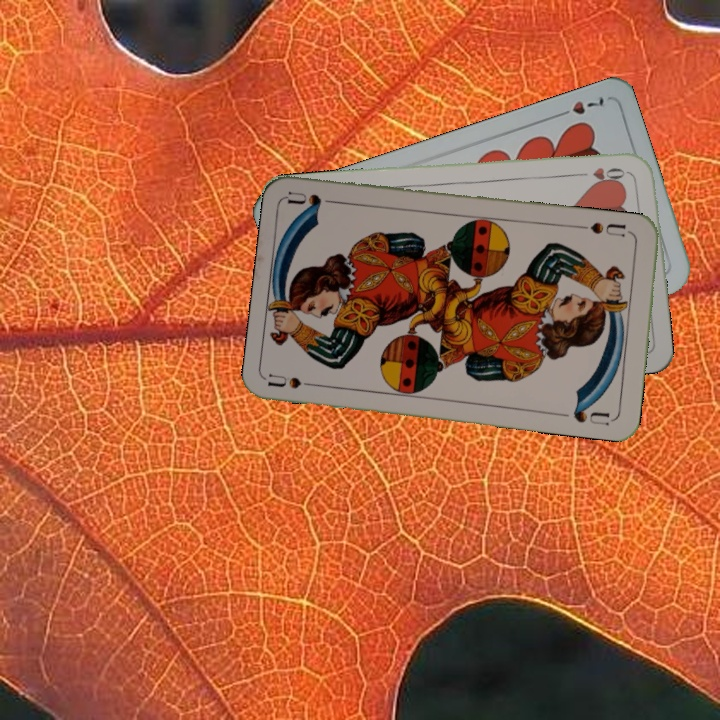H7: (552, 93, 607, 121)
HO: (572, 163, 632, 182)
SU: (576, 218, 635, 239), (266, 370, 325, 391)
